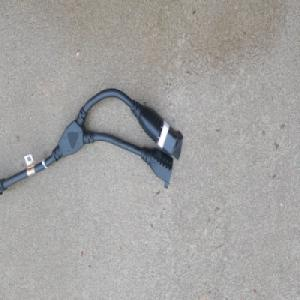Wire: (0, 87, 184, 197)
